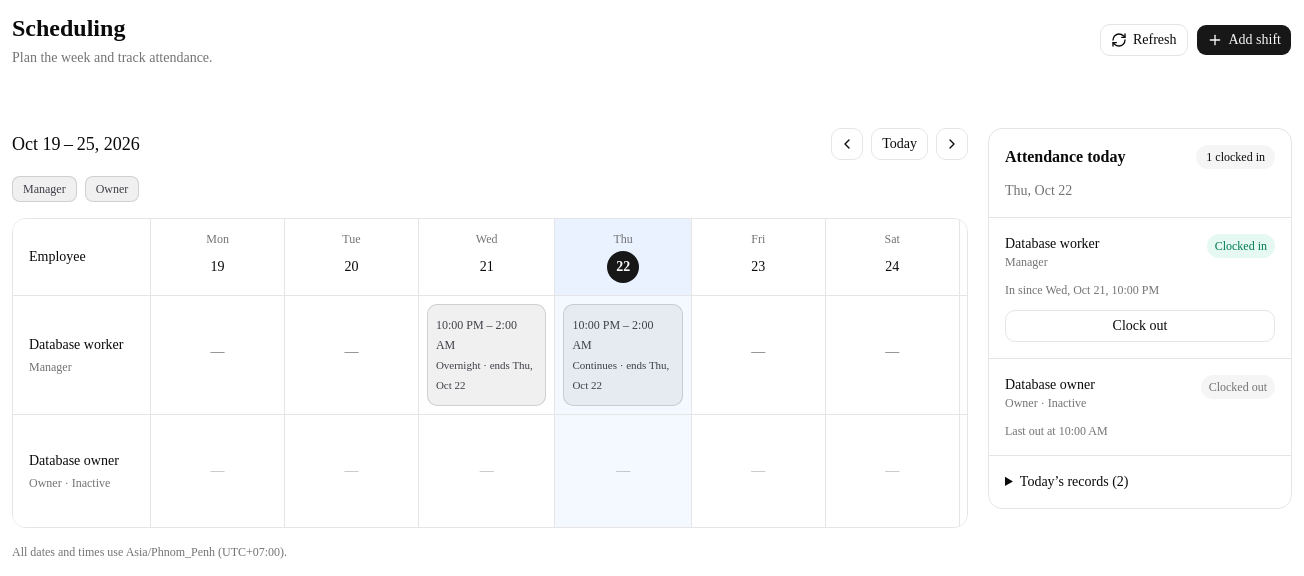
Test: clocks out the displayed overnight entry and keeps the saved history
Click the button with aria-label "Clock out Database worker" at point(1140, 326), box [1005,310,1275,342]
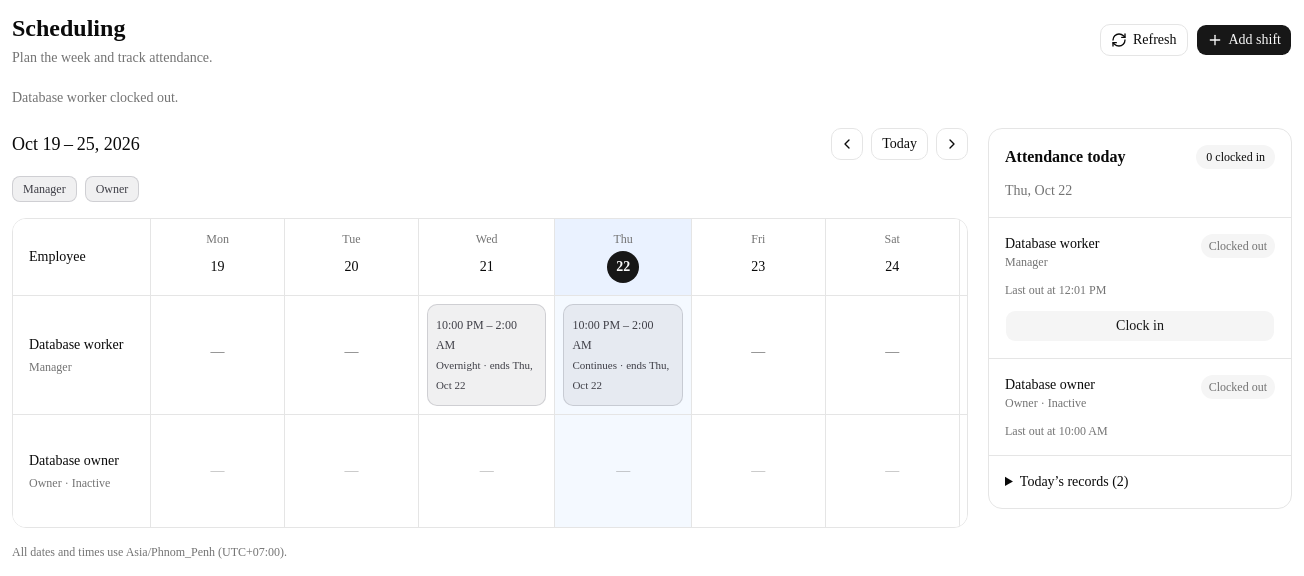
Expected: the text "0 clocked in" is shown, [1196,145,1275,169]
Expected: the text "Last out at 12:01 PM" is shown, [1005,283,1106,297]
Expected: the text "Database worker clocked out." is shown, [12,90,178,105]
